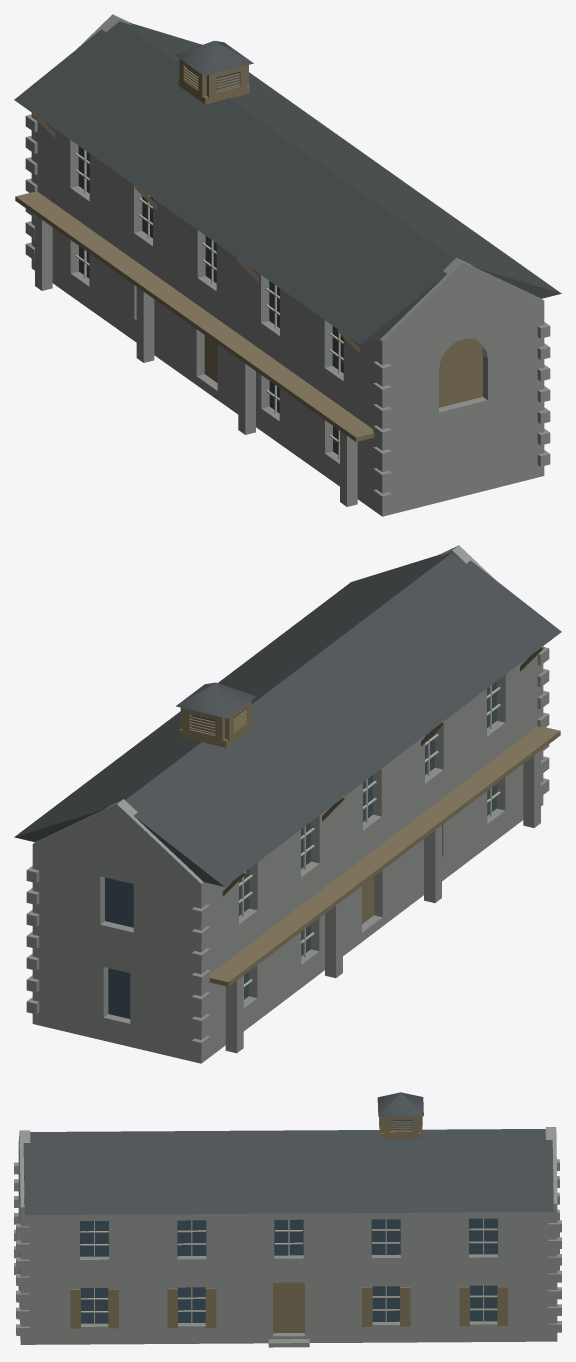
Rendered from ellicott-city-station-near.glb.
3 renders of one model, top to bottom at view 1: azimuth 30°, elevation 25°; view 2: azimuth 150°, elevation 25°; view 3: azimuth 270°, elevation 25°, orthographic. The views are drawn at different scales.
Parts seen in each view (by area): view 1: ellicott-city-station-0-stone, ellicott-city-station-0-roof, ellicott-city-station-0-wood, ellicott-city-station-0-glass, ellicott-city-station-0-trim; view 2: ellicott-city-station-0-stone, ellicott-city-station-0-roof, ellicott-city-station-0-wood, ellicott-city-station-0-glass, ellicott-city-station-0-trim; view 3: ellicott-city-station-0-stone, ellicott-city-station-0-roof, ellicott-city-station-0-glass, ellicott-city-station-0-wood, ellicott-city-station-0-trim.
Boxes of the visible parts, left/top/right/bottom form: ellicott-city-station-0-stone: left=25, top=14, right=550, bottom=516; ellicott-city-station-0-roof: left=14, top=21, right=561, bottom=344; ellicott-city-station-0-wood: left=15, top=59, right=482, bottom=441; ellicott-city-station-0-glass: left=78, top=68, right=343, bottom=454; ellicott-city-station-0-trim: left=75, top=150, right=343, bottom=458; ellicott-city-station-0-stone: left=26, top=545, right=549, bottom=1063; ellicott-city-station-0-roof: left=14, top=553, right=561, bottom=886; ellicott-city-station-0-wood: left=179, top=701, right=560, bottom=986; ellicott-city-station-0-glass: left=105, top=681, right=496, bottom=1018; ellicott-city-station-0-trim: left=239, top=685, right=500, bottom=1003; ellicott-city-station-0-stone: left=14, top=1127, right=561, bottom=1347; ellicott-city-station-0-roof: left=23, top=1092, right=553, bottom=1215; ellicott-city-station-0-glass: left=80, top=1120, right=497, bottom=1323; ellicott-city-station-0-wood: left=70, top=1116, right=507, bottom=1333; ellicott-city-station-0-trim: left=80, top=1218, right=497, bottom=1324.
Bounding box in the file's own units: 9.94 × 12.4 × 28.17.
